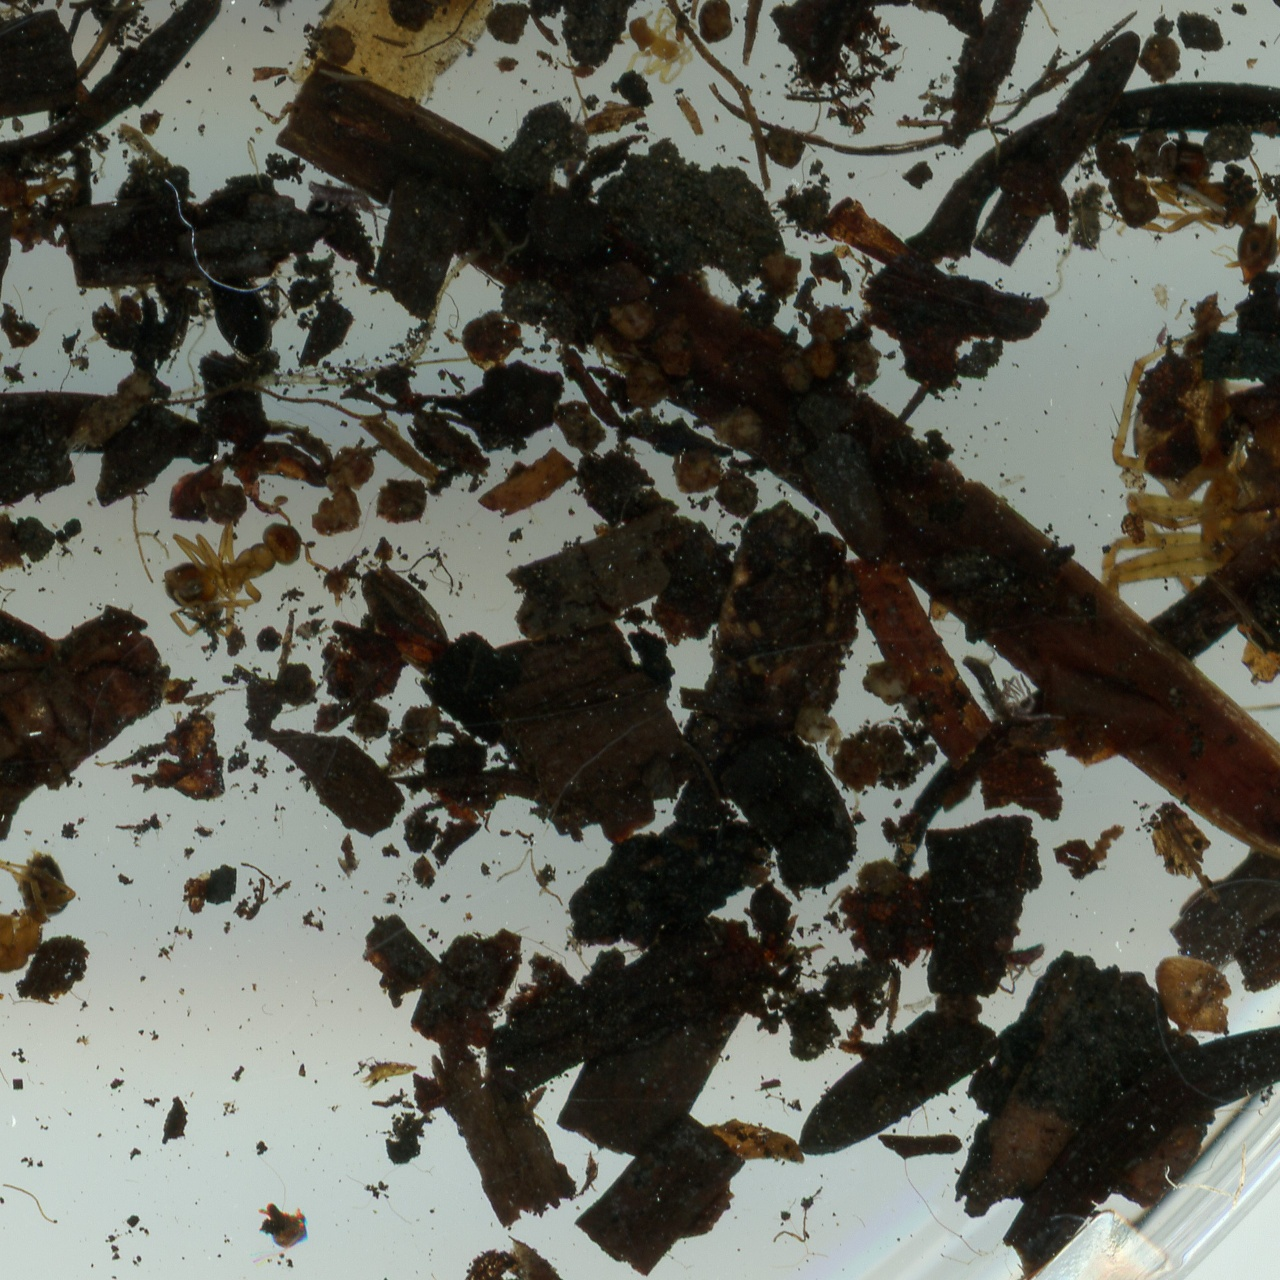arthropod: (1101, 321, 1280, 634), (1107, 137, 1280, 286), (165, 516, 304, 642), (0, 842, 79, 1010), (960, 653, 1062, 731), (209, 271, 281, 373), (310, 178, 397, 241), (629, 10, 698, 83), (993, 944, 1047, 979)
